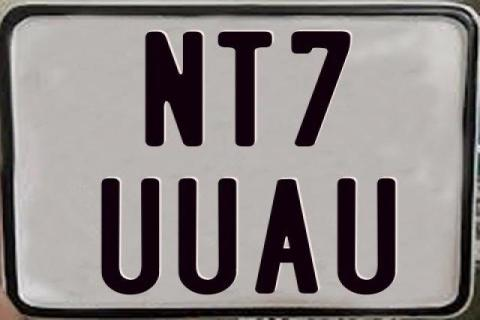0: (291, 30, 353, 148)
A: (253, 180, 317, 298)
N: (144, 31, 203, 149)
T: (217, 31, 275, 149)
U: (175, 177, 239, 297), (98, 177, 162, 295), (335, 176, 398, 295)
